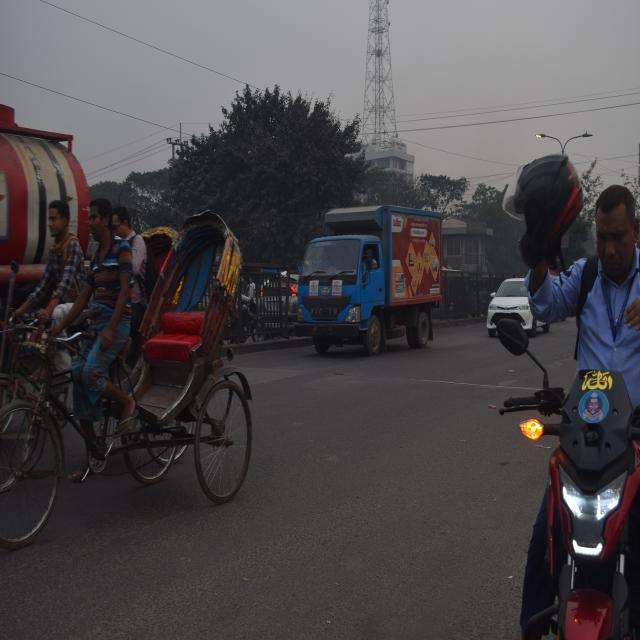car: (481, 272, 538, 343)
motorbike: (487, 305, 640, 640)
pickup-van: (289, 193, 446, 366)
truck: (0, 109, 93, 332)
